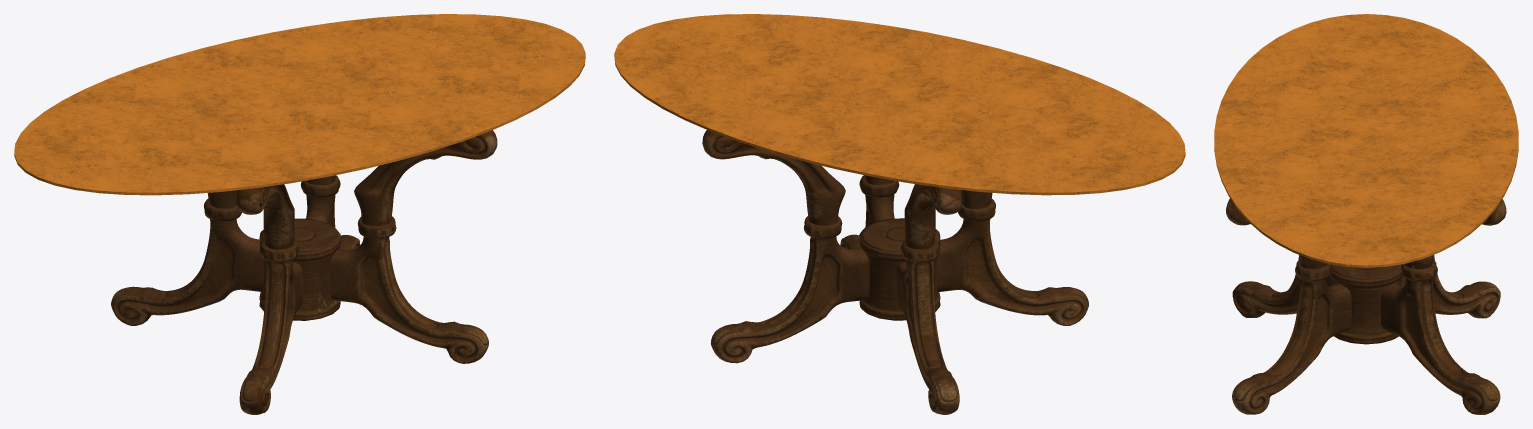
Rendered from table-transformed.glb.
3 views of the same model, side by side, from view 1: azimuth 30°, elevation 25°; view 2: azimuth 150°, elevation 25°; view 3: azimuth 270°, elevation 25° (orthographic). The views are drawn at different scales.
Parts seen in each view (by area): view 1: Cylinder_Mat.1_0, Remesh_Mat_0; view 2: Cylinder_Mat.1_0, Remesh_Mat_0; view 3: Cylinder_Mat.1_0, Remesh_Mat_0.
Part boxes in pixels (x1,y1,x2,y2): Cylinder_Mat.1_0: [14, 14, 585, 195]; Remesh_Mat_0: [111, 130, 497, 414]; Cylinder_Mat.1_0: [614, 14, 1185, 195]; Remesh_Mat_0: [702, 130, 1088, 414]; Cylinder_Mat.1_0: [1214, 14, 1518, 267]; Remesh_Mat_0: [1226, 198, 1506, 414].
Bounding box in the file's own units: 687 × 286 × 351.
Materials: 2 (2 with a texture image).
